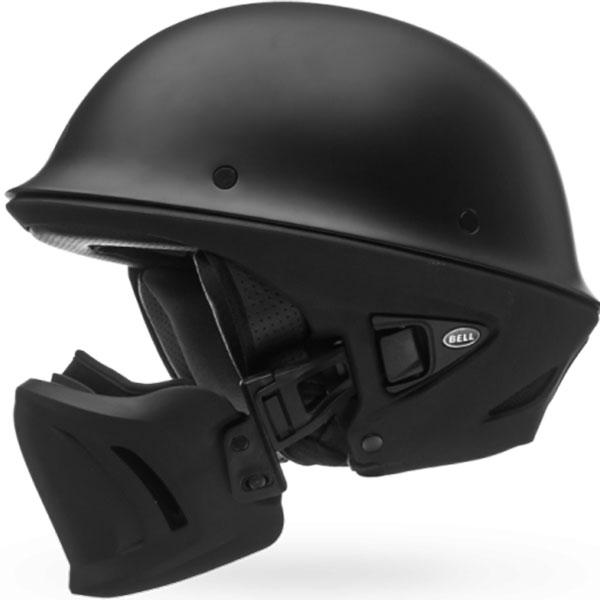helmet: (12, 5, 600, 589)
